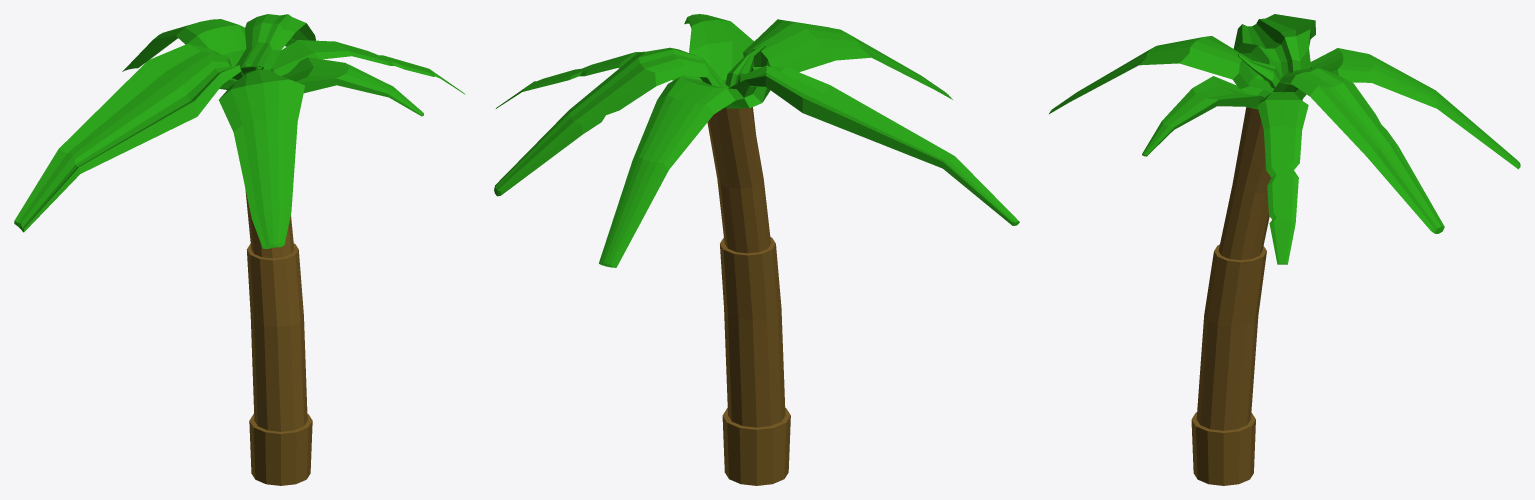
File: palmier.fbx
The picture shows the model from 3 angles, left to right: view 1: azimuth 30°, elevation 25°; view 2: azimuth 150°, elevation 25°; view 3: azimuth 270°, elevation 25°; orthographic projection. The views are drawn at different scales.
Visible parts, largest first — view 1: Cylinder; view 2: Cylinder; view 3: Cylinder.
Boxes of the visible parts, <box> form: Cylinder: <box>14,14,465,485</box>; Cylinder: <box>494,14,1019,485</box>; Cylinder: <box>1049,14,1520,485</box>.
Size of the model in its own units: 1806 by 1535 by 1566.
